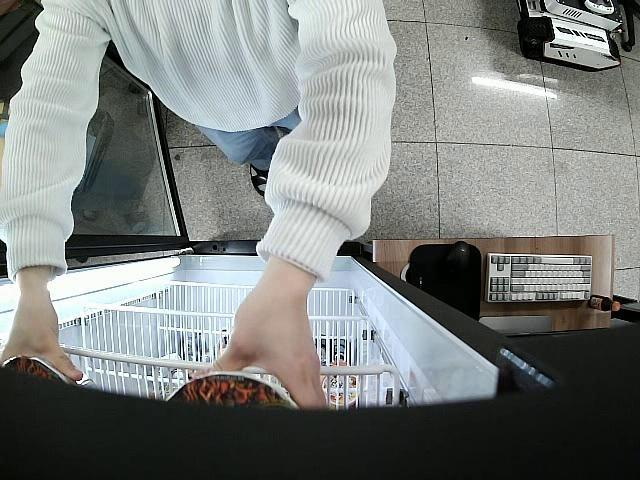03_chapagetti_L: (169, 370, 302, 414), (0, 354, 83, 392)
